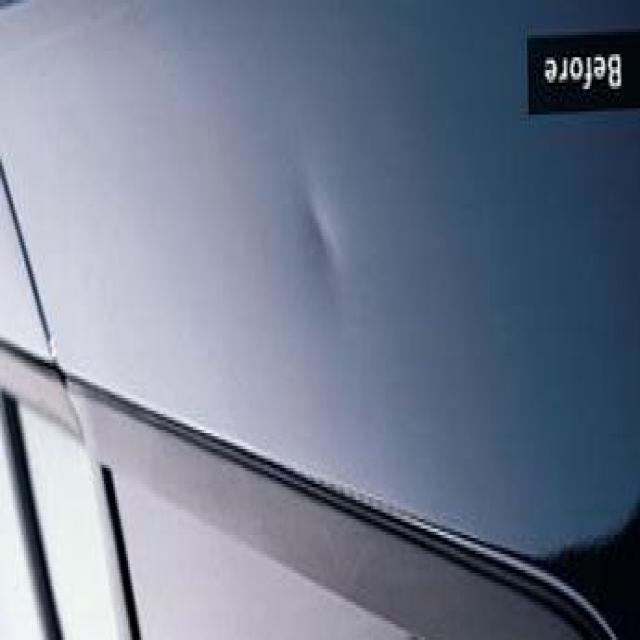dent: (276, 181, 349, 293)
